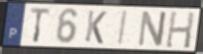6: (54, 6, 80, 46)
H: (165, 10, 197, 50)
I: (116, 9, 130, 47)
K: (83, 9, 108, 45)
N: (136, 9, 169, 48)
T: (29, 6, 52, 44)
